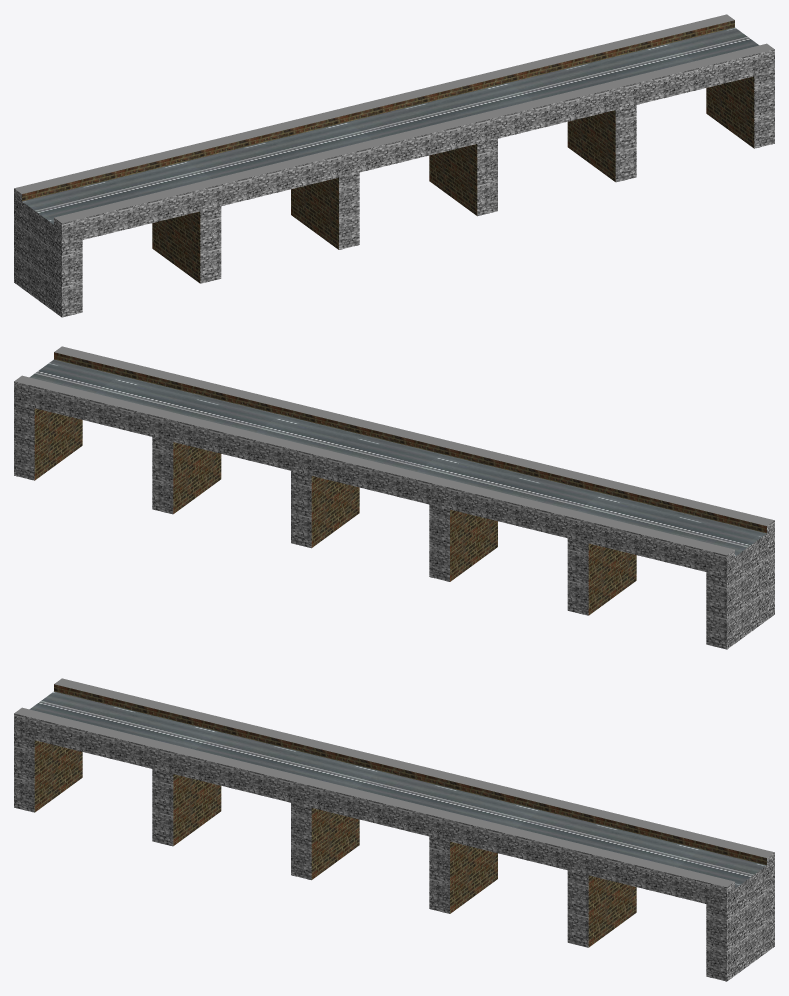
The model's file is bridge5.dae.
3 renders of one model, top to bottom at view 1: azimuth 30°, elevation 25°; view 2: azimuth 150°, elevation 25°; view 3: azimuth 330°, elevation 25°, orthographic.
Visible parts, largest first — view 1: SketchUp, SketchUp_011, SketchUp_014, SketchUp_012, SketchUp_013, SketchUp_010, SketchUp_007, SketchUp_002, SketchUp_008, SketchUp_004; view 2: SketchUp, SketchUp_011, SketchUp_012, SketchUp_014, SketchUp_015, SketchUp_010, SketchUp_007, SketchUp_002, SketchUp_008, SketchUp_004; view 3: SketchUp, SketchUp_011, SketchUp_014, SketchUp_012, SketchUp_013, SketchUp_001, SketchUp_005, SketchUp_009, SketchUp_003, SketchUp_006.
Boxes of the visible parts, box(x1,y1,x2,y2) form: SketchUp: box(14, 49, 774, 317); SketchUp_011: box(22, 27, 759, 224); SketchUp_014: box(54, 43, 774, 223); SketchUp_012: box(14, 14, 734, 193); SketchUp_013: box(22, 20, 734, 201); SketchUp_010: box(706, 76, 754, 148); SketchUp_007: box(429, 144, 477, 215); SketchUp_002: box(152, 211, 200, 283); SketchUp_008: box(567, 110, 615, 181); SketchUp_004: box(291, 177, 338, 249); SketchUp: box(14, 381, 774, 649); SketchUp_011: box(29, 359, 766, 556); SketchUp_012: box(14, 375, 734, 555); SketchUp_014: box(54, 346, 774, 525); SketchUp_015: box(54, 352, 766, 533); SketchUp_010: box(34, 408, 82, 480); SketchUp_007: box(311, 476, 359, 547); SketchUp_002: box(588, 543, 636, 615); SketchUp_008: box(173, 442, 221, 513); SketchUp_004: box(450, 509, 497, 581); SketchUp: box(14, 713, 774, 981); SketchUp_011: box(29, 691, 766, 888); SketchUp_014: box(14, 707, 734, 887); SketchUp_012: box(54, 678, 774, 857); SketchUp_013: box(54, 684, 766, 865); SketchUp_001: box(34, 740, 82, 812); SketchUp_005: box(311, 808, 359, 879); SketchUp_009: box(588, 875, 636, 947); SketchUp_003: box(173, 774, 221, 845); SketchUp_006: box(450, 841, 497, 913).
Bounding box in the file's own units: 239 × 27.9 × 30.22.
